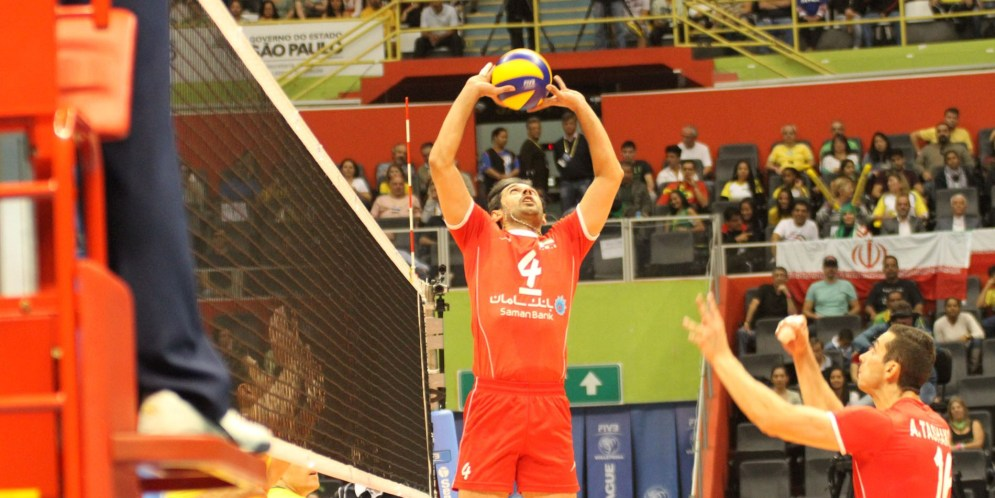volleyball: (487, 48, 556, 112)
